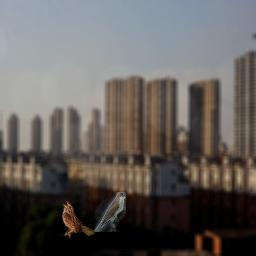Cuckoo: (94, 192, 126, 232)
Sparrow: (62, 201, 95, 239)
